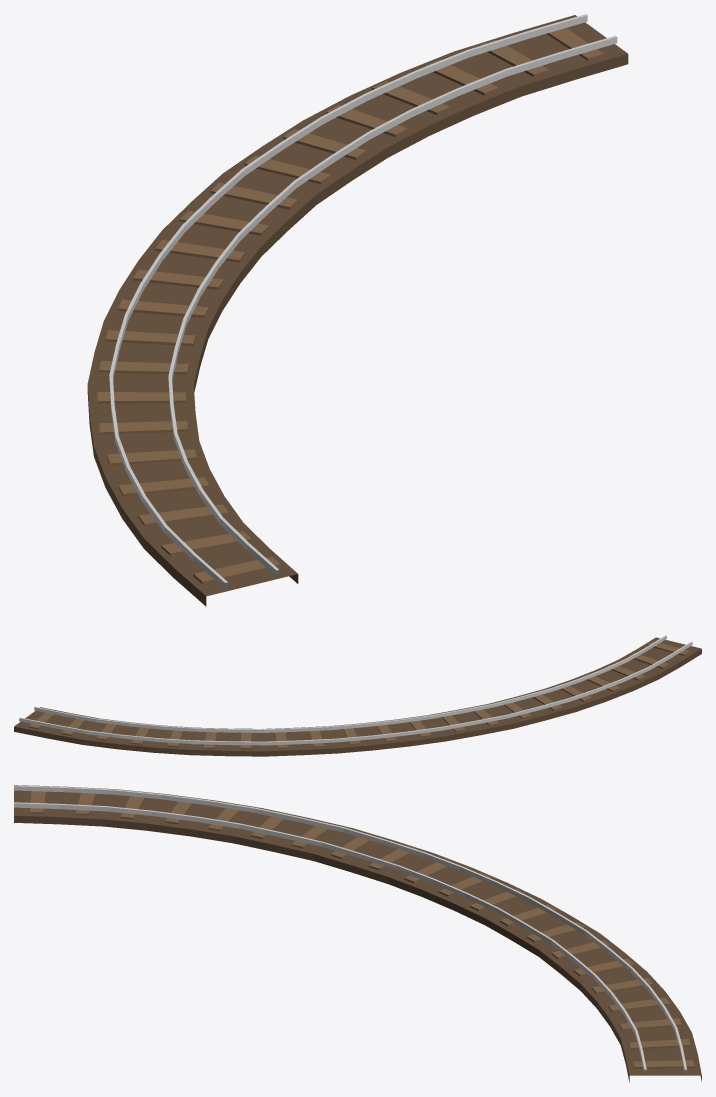
Rendered from Track turn x3 (3).fbx.
3 views of the same model, one above another, from view 1: azimuth 30°, elevation 25°; view 2: azimuth 150°, elevation 25°; view 3: azimuth 270°, elevation 25° (orthographic). The views are drawn at different scales.
Parts seen in each view (by area): view 1: 3 x Curve; view 2: 3 x Curve; view 3: 3 x Curve.
Part boxes in pixels (box(x1,y1,x2,y2)): 3 x Curve: box(87, 14, 628, 606); 3 x Curve: box(14, 635, 701, 756); 3 x Curve: box(14, 785, 701, 1082).
Size of the model in its own units: 4.75 by 0.1006 by 4.75.
